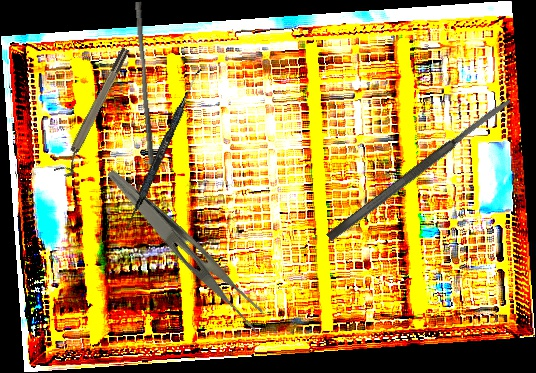Dressing Forceps: (91, 168, 277, 336)
Fixation Ring: (54, 45, 137, 180)
Pusher: (128, 1, 162, 166)
Spatula Surgical: (324, 96, 515, 243), (124, 66, 202, 232)
